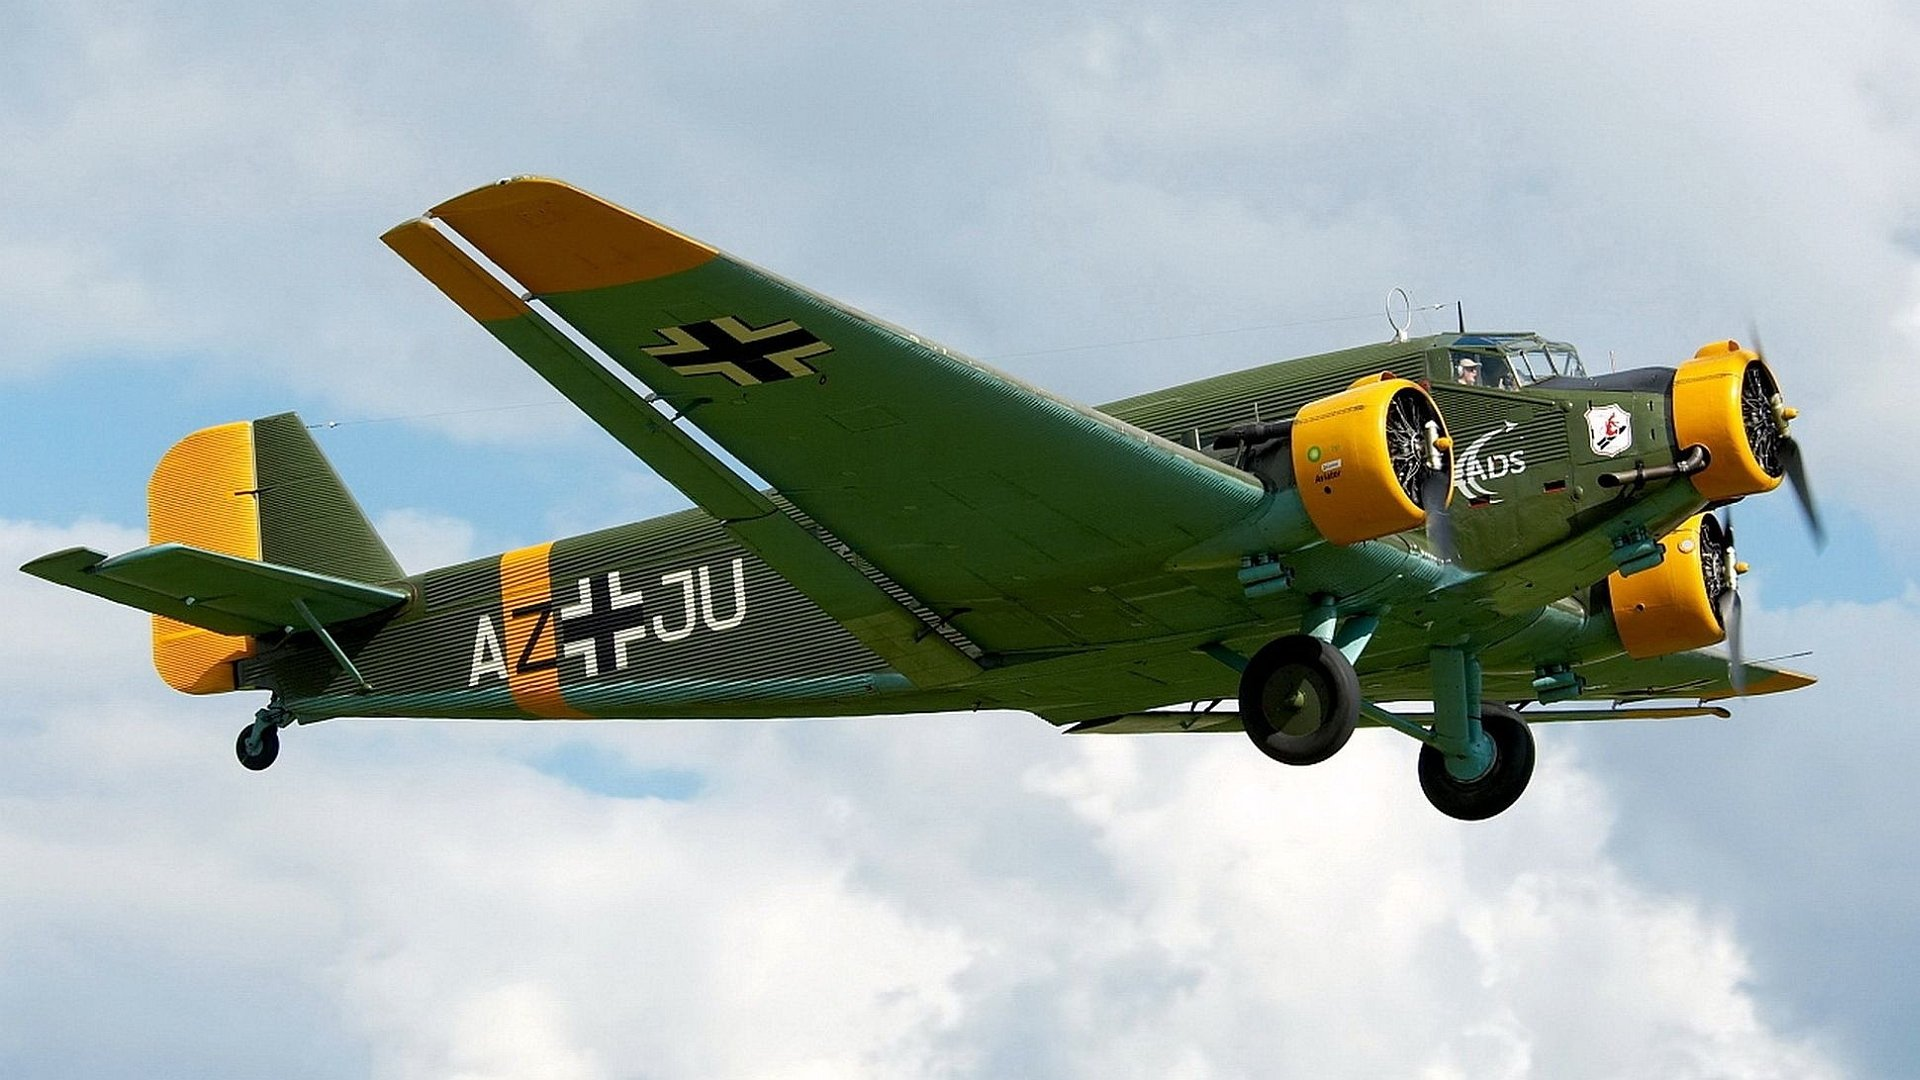Aeronef_militaire: (18, 156, 1863, 866)
